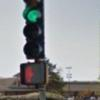traffic lights: (21, 0, 45, 59), (19, 62, 49, 88)
